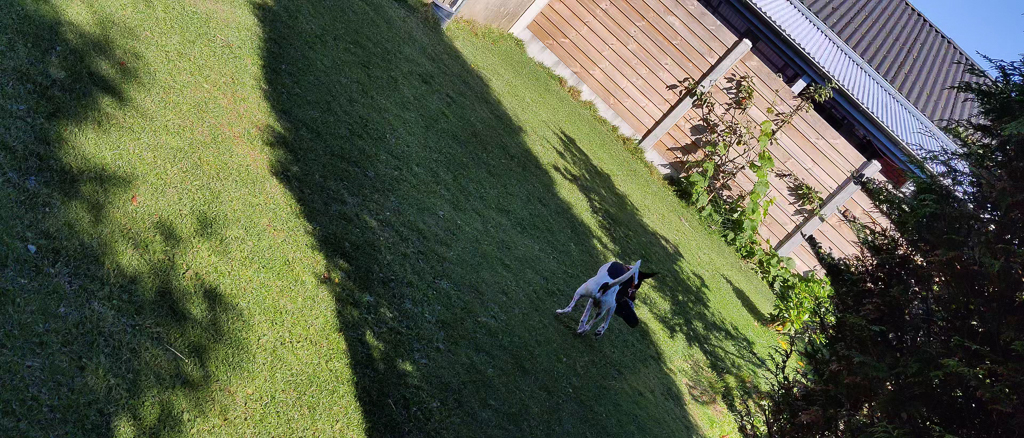Dog: (548, 256, 672, 345)
